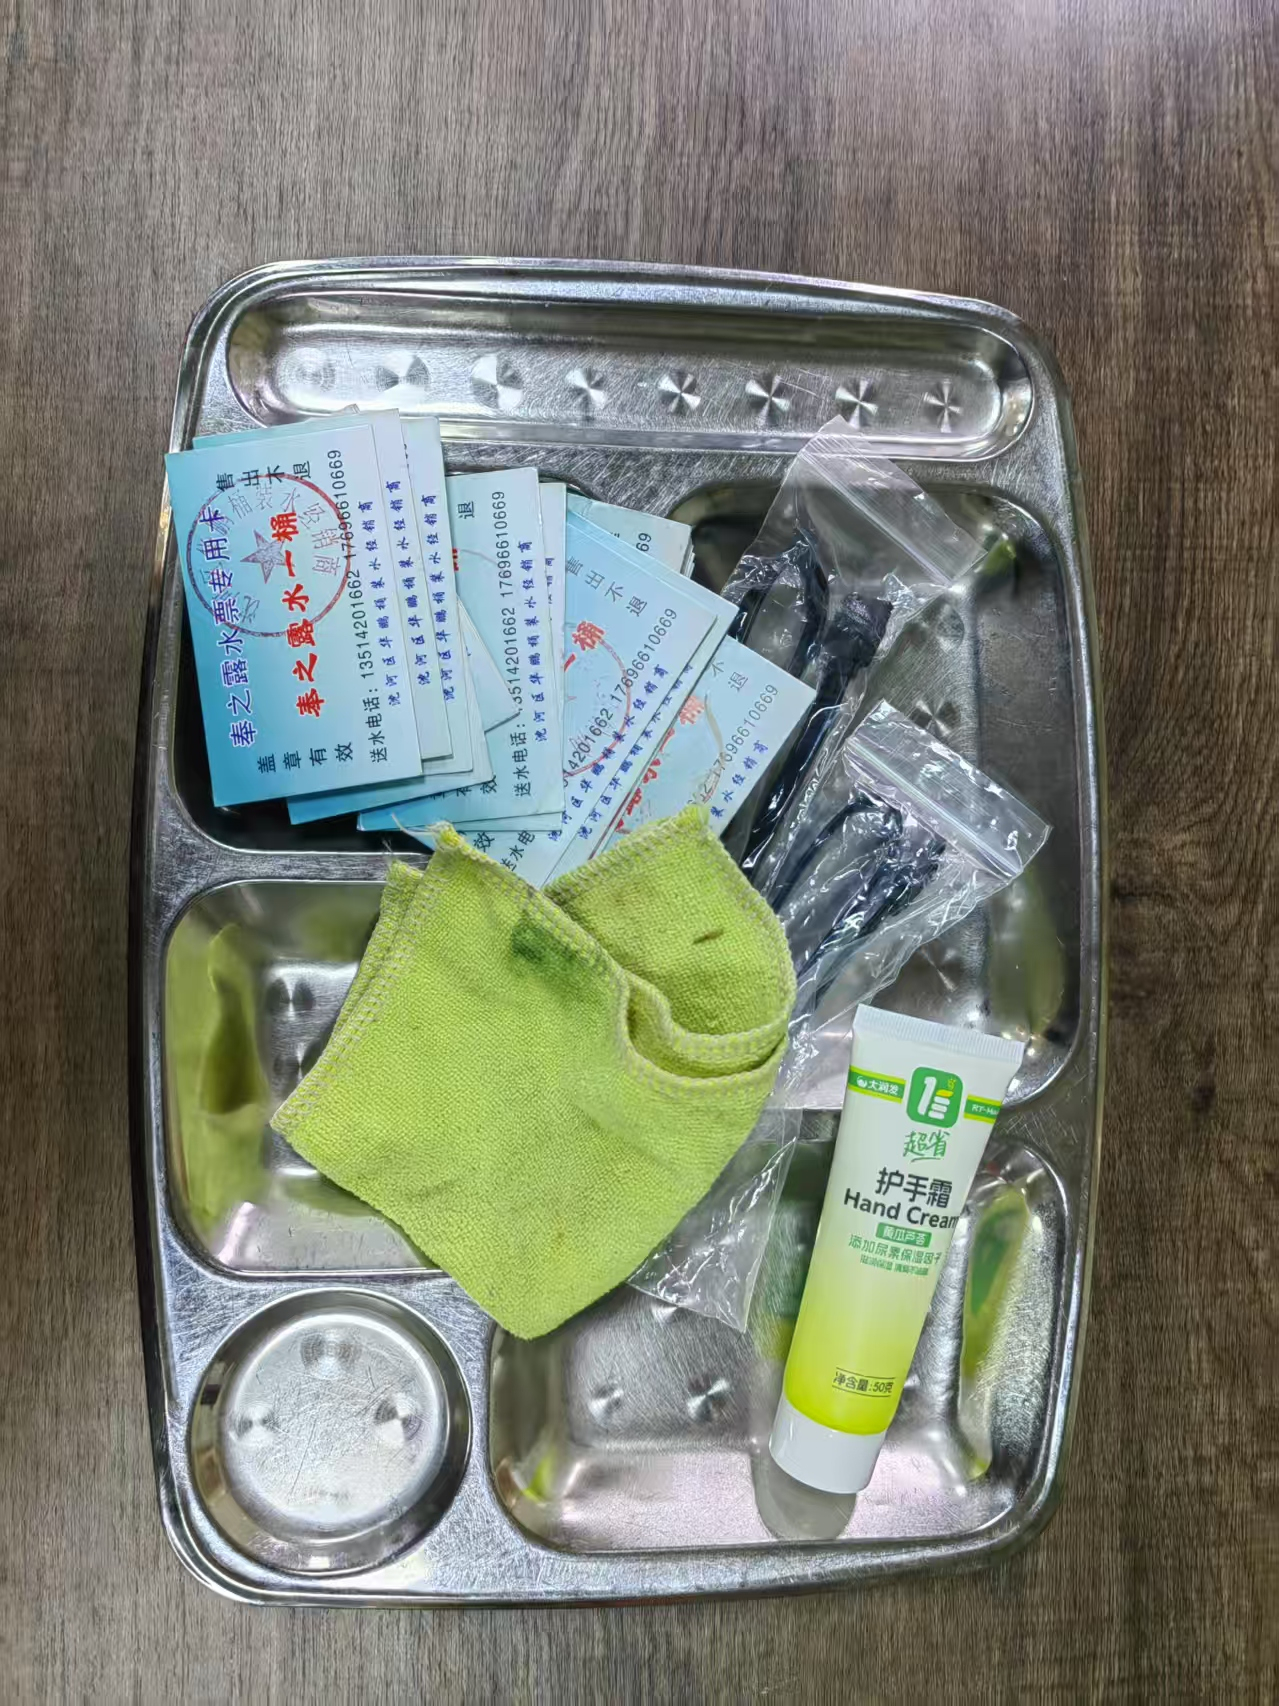plate: (131, 254, 1111, 1606)
severe: (167, 398, 1028, 1495)
